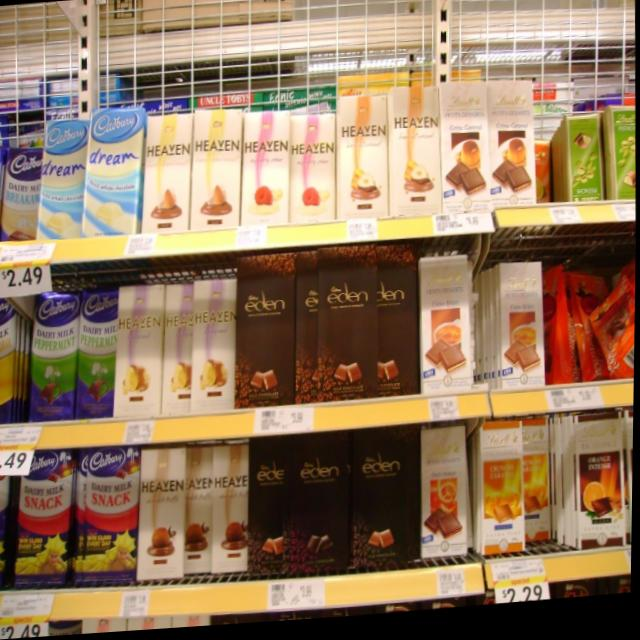q250: (236, 106, 289, 236), (239, 112, 294, 233), (291, 106, 333, 230)
